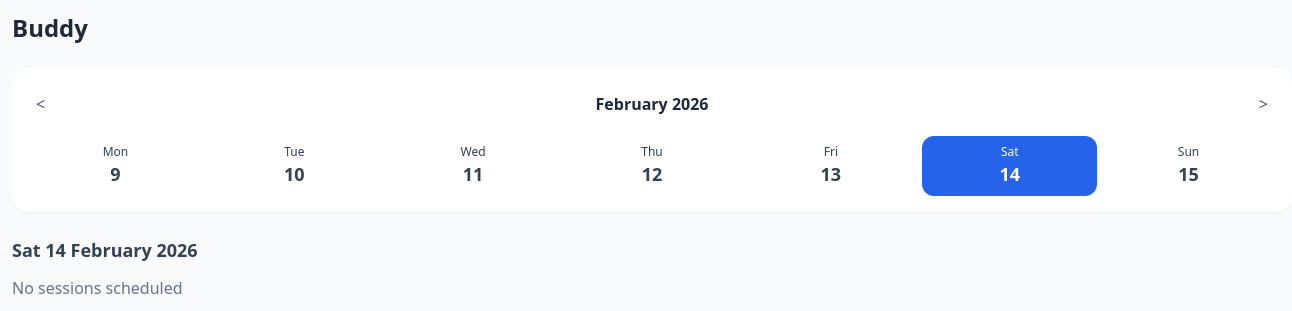
Test: Progress › navigating weeks fetches new data and updates the strip
The width and height of the screenshot is (1292, 311).
Expected: the text "February 2026" is shown, [596, 92, 708, 116]
Click next week arrow
Click the button named "next week" at x=1263, y=104, box [1251, 84, 1276, 124]
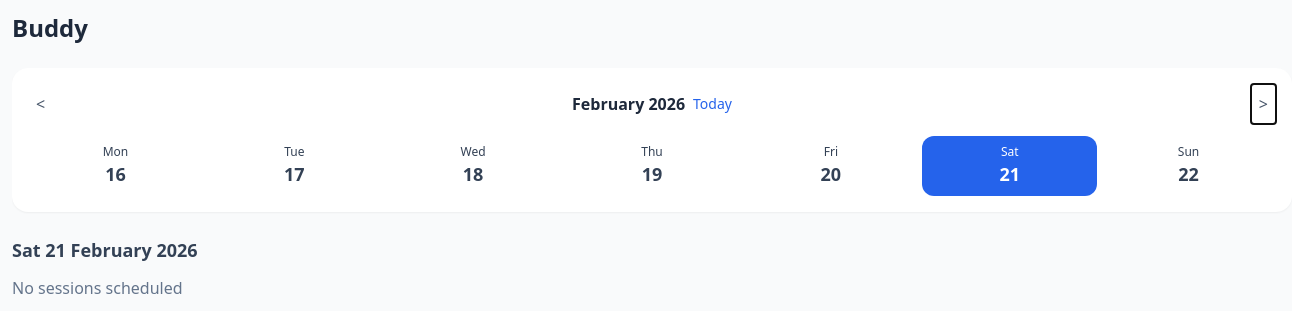
Now the text "16" is shown, box [105, 160, 126, 188]
Now the text "22" is shown, box [1178, 160, 1199, 188]
